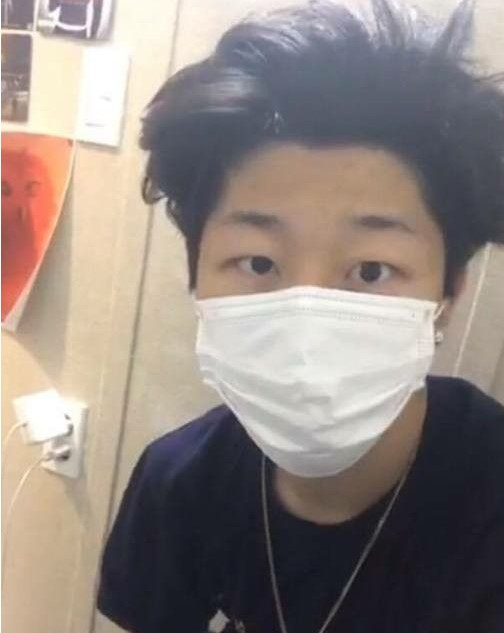face_with_mask: (184, 87, 471, 484)
